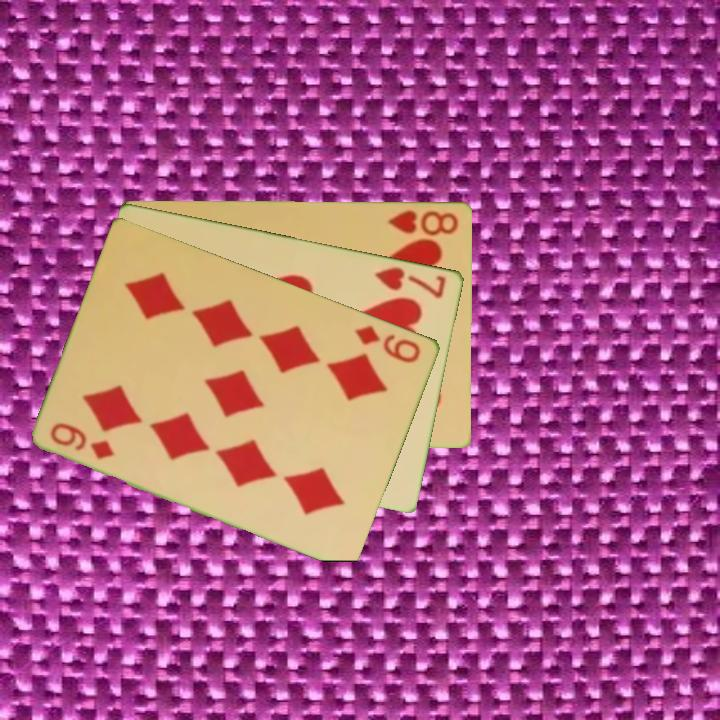7h: (371, 263, 450, 301)
8h: (385, 207, 462, 238)
9d: (352, 321, 424, 366), (47, 418, 119, 462)
